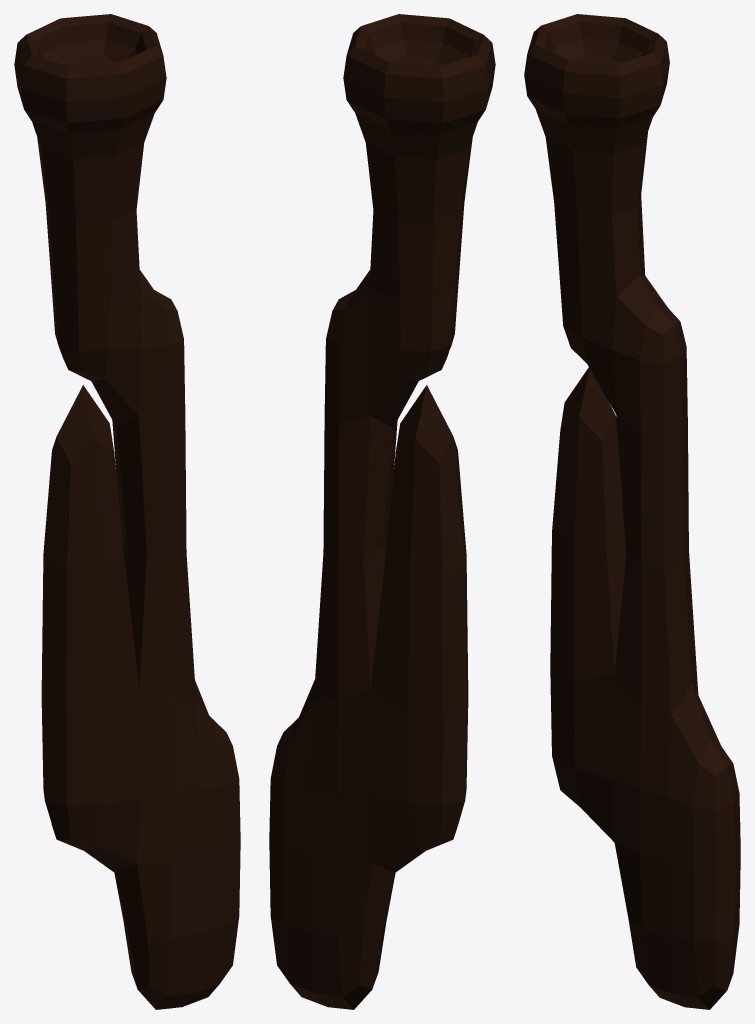
File: Torche.fbx
3 renders of one model, left to right at view 1: azimuth 30°, elevation 25°; view 2: azimuth 150°, elevation 25°; view 3: azimuth 330°, elevation 25°, orthographic. The views are drawn at different scales.
Visible parts, largest first — view 1: Cube; view 2: Cube; view 3: Cube.
Part boxes in pixels (left/top/right/bottom): Cube: left=14, top=14, right=240, bottom=1009; Cube: left=269, top=14, right=495, bottom=1009; Cube: left=524, top=14, right=740, bottom=1009.
Bounding box in the file's own units: 387 × 1709 × 223.
